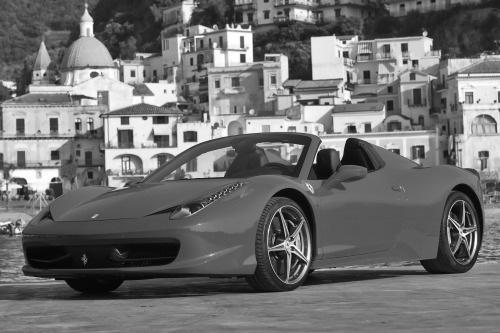car: (23, 132, 486, 294)
